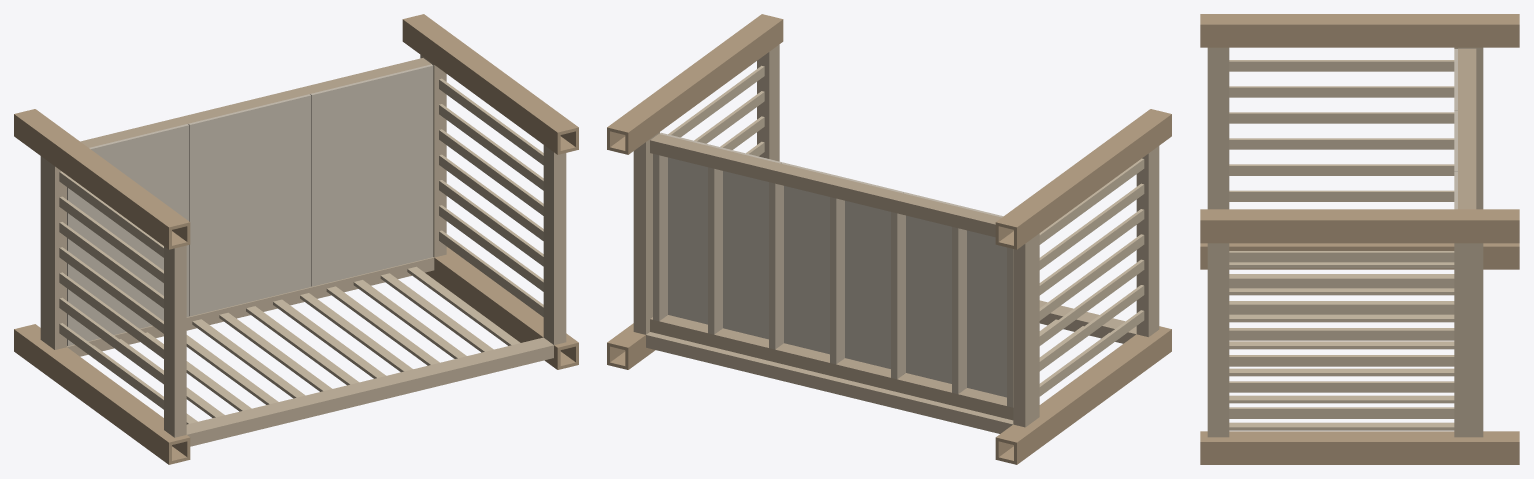
File: three-sides-design-only.glb
3 renders of one model, left to right at view 1: azimuth 30°, elevation 25°; view 2: azimuth 150°, elevation 25°; view 3: azimuth 270°, elevation 25°, orthographic. The views are drawn at different scales.
Parts seen in each view (by area): view 1: V067_BASE_33, V067_BASE_32, V067_BASE_31, POST4_X_LOW, POST3_X_LOW, POST1_X_LOW, LEFT_LOW_SIDE_A, POST2_X_LOW, REAR_TOP_SIDE_B_B, RIGHT_TOP_SIDE_A, LEFT_TOP_SIDE_A, POST3_Y_HIGH (+47 smaller); view 2: V067_BASE_32, V067_BASE_33, V067_BASE_31, POST4_X_LOW, POST3_X_LOW, POST1_X_LOW, LEFT_LOW_SIDE_A, V067_BASE_10, LEFT_TOP_SIDE_A, POST3_Y_HIGH, POST4_Y_HIGH, POST1_Y_HIGH (+44 smaller); view 3: POST4_X_HIGH, POST2_X_HIGH, POST3_X_HIGH, RIGHT_LOW_SIDE_B, RIGHT_TOP_SIDE_B, LEFT_TOP_SIDE_B, POST1_X_HIGH, POST3_Y_HIGH, LEFT_SLAT_03, LEFT_SLAT_04, LEFT_SLAT_05, LEFT_SLAT_06 (+28 smaller).
Boxes of the visible parts, x1,y1,x2,y2 form: V067_BASE_33: [310, 64, 433, 286]; V067_BASE_32: [188, 94, 311, 316]; V067_BASE_31: [67, 124, 189, 346]; POST4_X_LOW: [402, 18, 560, 154]; POST3_X_LOW: [14, 113, 171, 249]; POST1_X_LOW: [14, 328, 171, 464]; LEFT_LOW_SIDE_A: [40, 156, 57, 349]; POST2_X_LOW: [425, 257, 560, 369]; REAR_TOP_SIDE_B_B: [347, 337, 553, 396]; RIGHT_TOP_SIDE_A: [543, 145, 556, 344]; LEFT_TOP_SIDE_A: [164, 246, 177, 437]; POST3_Y_HIGH: [17, 109, 187, 229]; V067_BASE_32: [781, 162, 904, 368]; V067_BASE_33: [659, 132, 782, 339]; V067_BASE_31: [903, 192, 1006, 397]; POST4_X_LOW: [625, 18, 783, 154]; POST3_X_LOW: [1014, 113, 1171, 249]; POST1_X_LOW: [1014, 328, 1171, 464]; LEFT_LOW_SIDE_A: [1022, 233, 1039, 427]; V067_BASE_10: [650, 134, 881, 197]; LEFT_TOP_SIDE_A: [1145, 146, 1159, 337]; POST3_Y_HIGH: [998, 109, 1168, 229]; POST4_Y_HIGH: [610, 15, 779, 134]; POST1_Y_HIGH: [998, 326, 1168, 444]; POST4_X_HIGH: [1200, 218, 1519, 243]; POST2_X_HIGH: [1200, 440, 1519, 464]; POST3_X_HIGH: [1200, 23, 1519, 47]; RIGHT_LOW_SIDE_B: [1454, 243, 1483, 437]; RIGHT_TOP_SIDE_B: [1207, 243, 1229, 437]; LEFT_TOP_SIDE_B: [1207, 47, 1229, 209]; POST1_X_HIGH: [1200, 245, 1519, 269]; POST3_Y_HIGH: [1200, 15, 1519, 23]; LEFT_SLAT_03: [1229, 164, 1454, 175]; LEFT_SLAT_04: [1229, 138, 1454, 149]; LEFT_SLAT_05: [1229, 112, 1454, 123]; LEFT_SLAT_06: [1229, 86, 1454, 97].
Bounding box in the file's own units: 1344 × 744 × 880.
